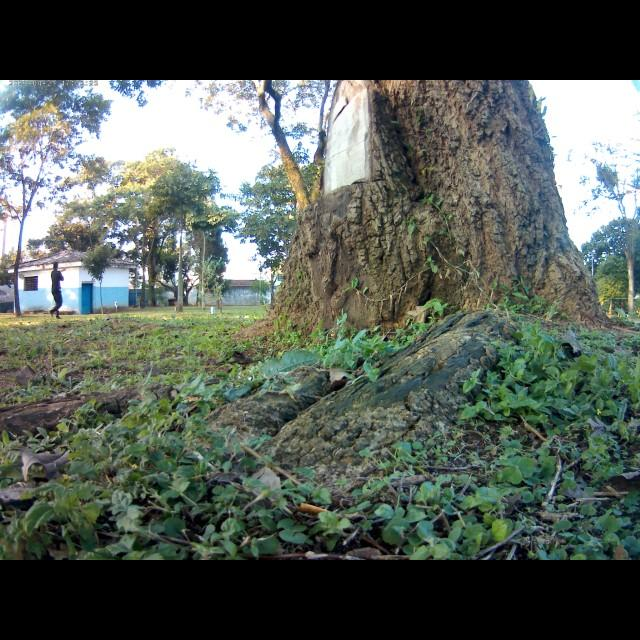arvore: (200, 82, 616, 486)
